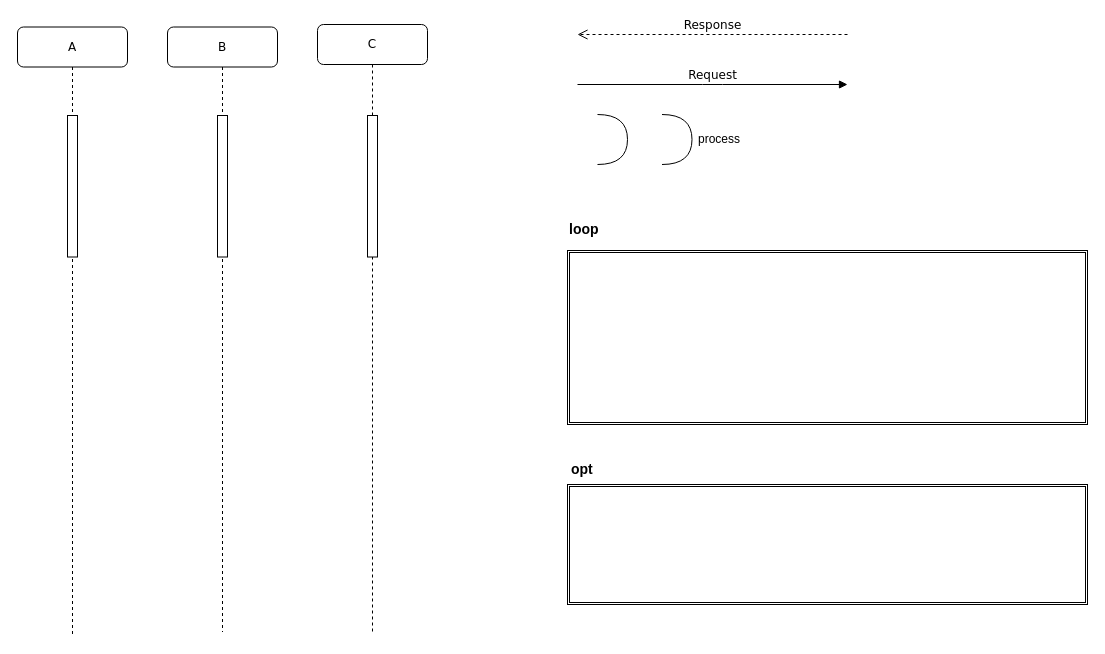
The diagram is 1105 pixels wide and 654 high, and some of its shapes have lost their labels. Each missing label, with the centre of its shape:
"resend count < 4" goes at [827,337].
"resend count > 3" goes at [827,544].
